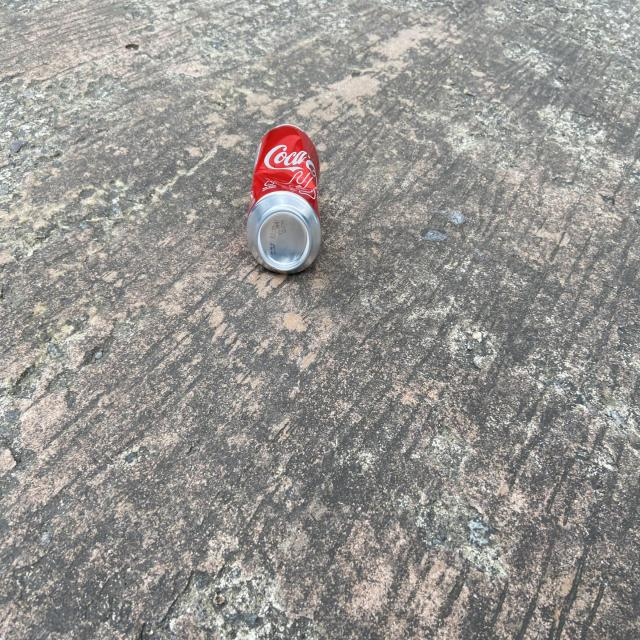can: (247, 124, 321, 273)
